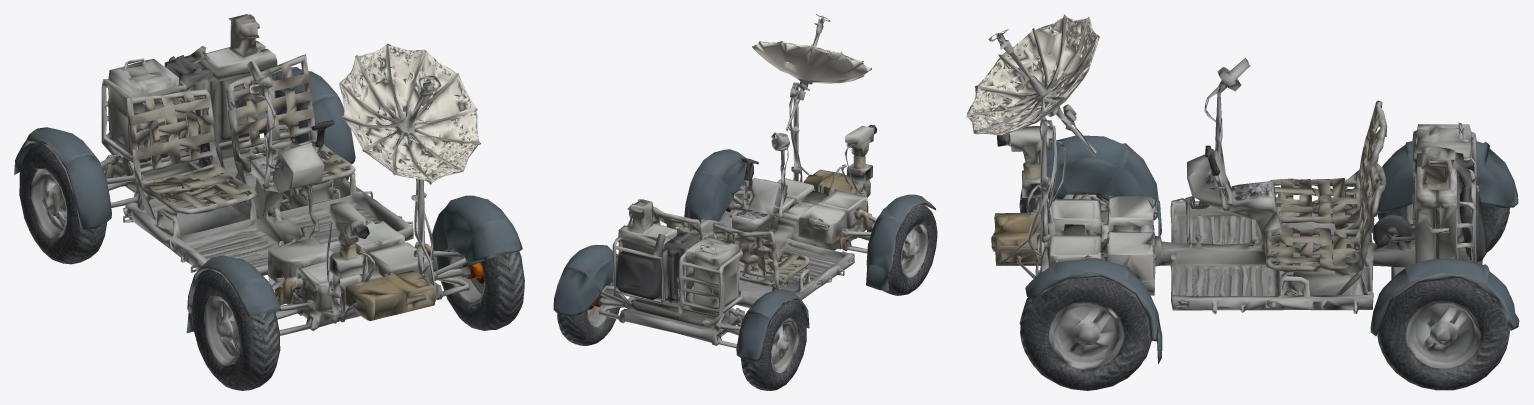
Rendered from lunar_rover.glb.
The picture shows the model from 3 angles, left to right: view 1: azimuth 30°, elevation 25°; view 2: azimuth 150°, elevation 25°; view 3: azimuth 270°, elevation 25°; orthographic projection. The views are drawn at different scales.
Visible parts, largest first — view 1: tripo_node_0715b3e6-8a59-416e-b22c-d63a954e9686; view 2: tripo_node_0715b3e6-8a59-416e-b22c-d63a954e9686; view 3: tripo_node_0715b3e6-8a59-416e-b22c-d63a954e9686.
Part boxes in pixels (bbox=[...]): tripo_node_0715b3e6-8a59-416e-b22c-d63a954e9686: bbox=[14, 14, 524, 390]; tripo_node_0715b3e6-8a59-416e-b22c-d63a954e9686: bbox=[553, 14, 937, 390]; tripo_node_0715b3e6-8a59-416e-b22c-d63a954e9686: bbox=[966, 14, 1519, 390].
Bounding box in the file's own units: 1.87 × 1.92 × 3.1.
1 material, 1 textured.
